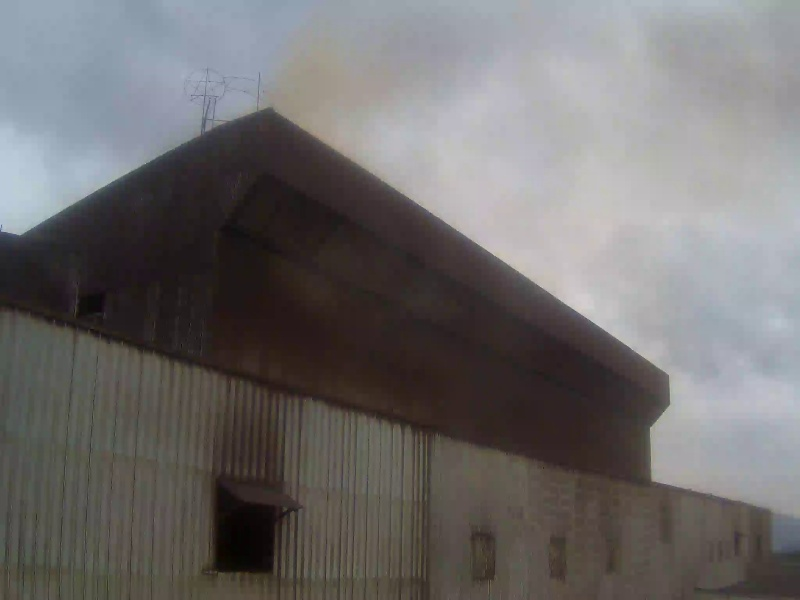bom: (110, 1, 254, 211), (1, 4, 144, 215)
ruim: (287, 12, 586, 317)
